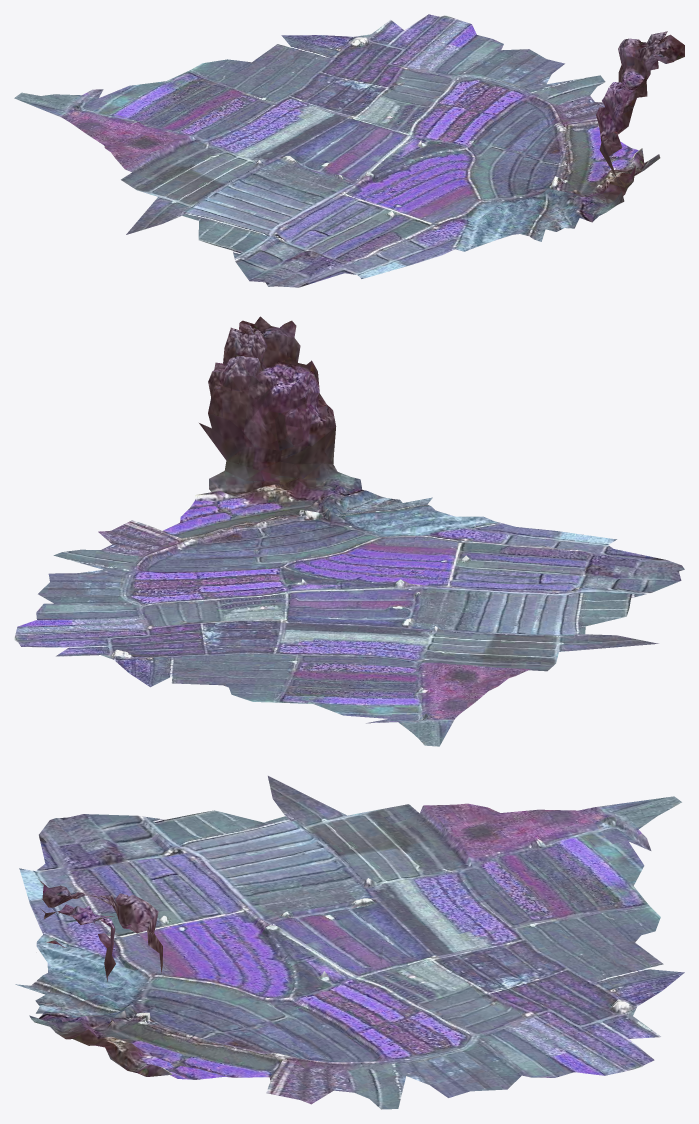
The model's file is Tile_+011_+019_L19_000022.glb.
The picture shows the model from 3 angles, top to bottom: view 1: azimuth 30°, elevation 25°; view 2: azimuth 150°, elevation 25°; view 3: azimuth 270°, elevation 25°; orthographic projection. The views are drawn at different scales.
Visible parts, largest first — view 1: rtc; view 2: rtc; view 3: rtc.
Boxes of the visible parts, box(x1,y1,x2,y2) form: rtc: box(14, 14, 684, 287); rtc: box(14, 316, 684, 746); rtc: box(15, 776, 684, 1109).
Bounding box in the file's own units: 66.42 × 18.28 × 57.89.
Materials: 1 (1 with a texture image).
